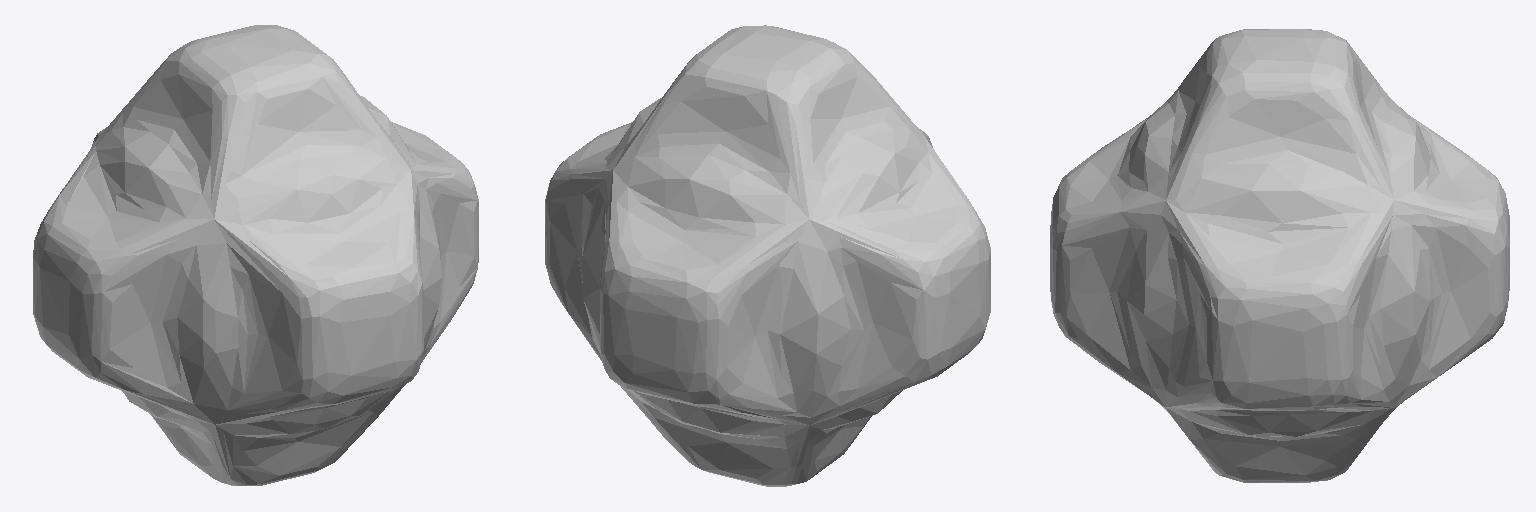
Rendered from holomorphite-obj-low.obj.
3 views of the same model, side by side, from view 1: azimuth 30°, elevation 25°; view 2: azimuth 150°, elevation 25°; view 3: azimuth 270°, elevation 25° (orthographic).
Size of the model in its own units: 3 by 3 by 3.